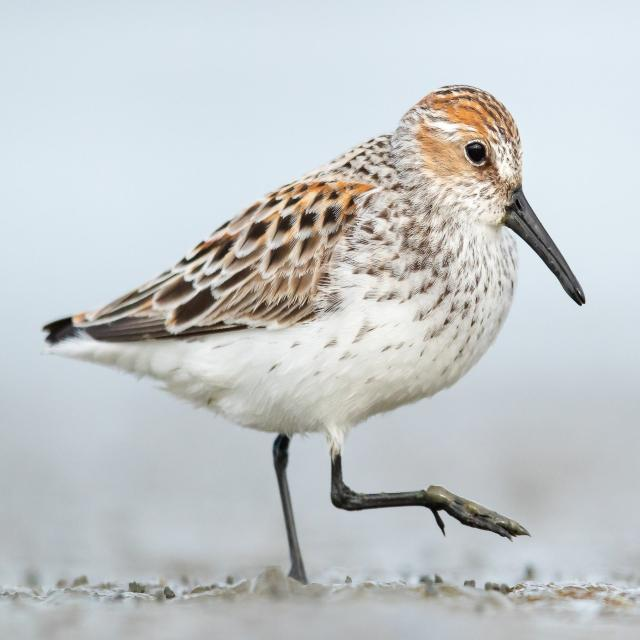Sandpiper: (53, 77, 588, 579)
